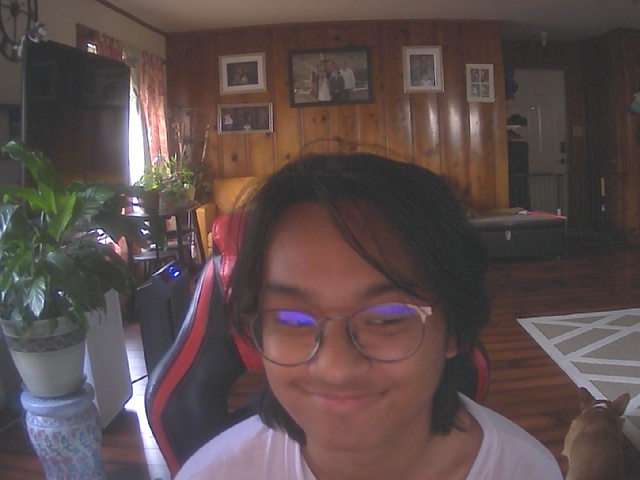happy: (235, 181, 469, 456)
